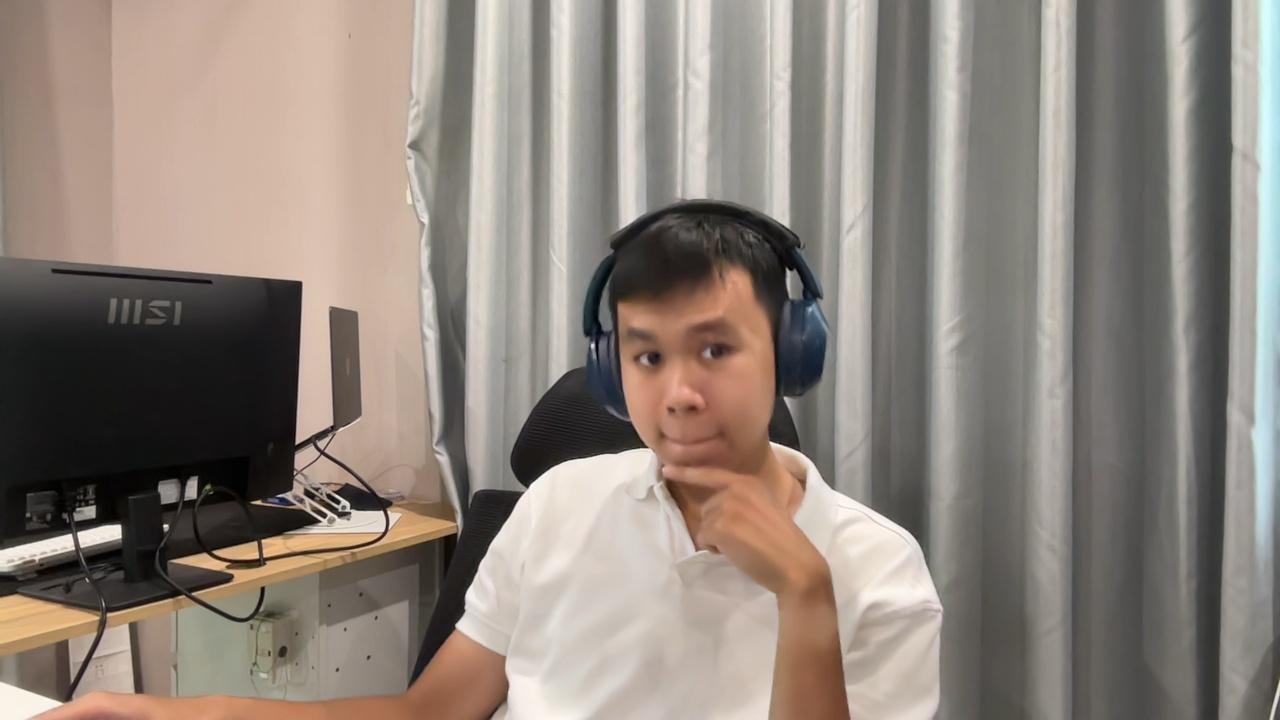over_ear: (581, 200, 832, 426), (582, 200, 831, 410)
